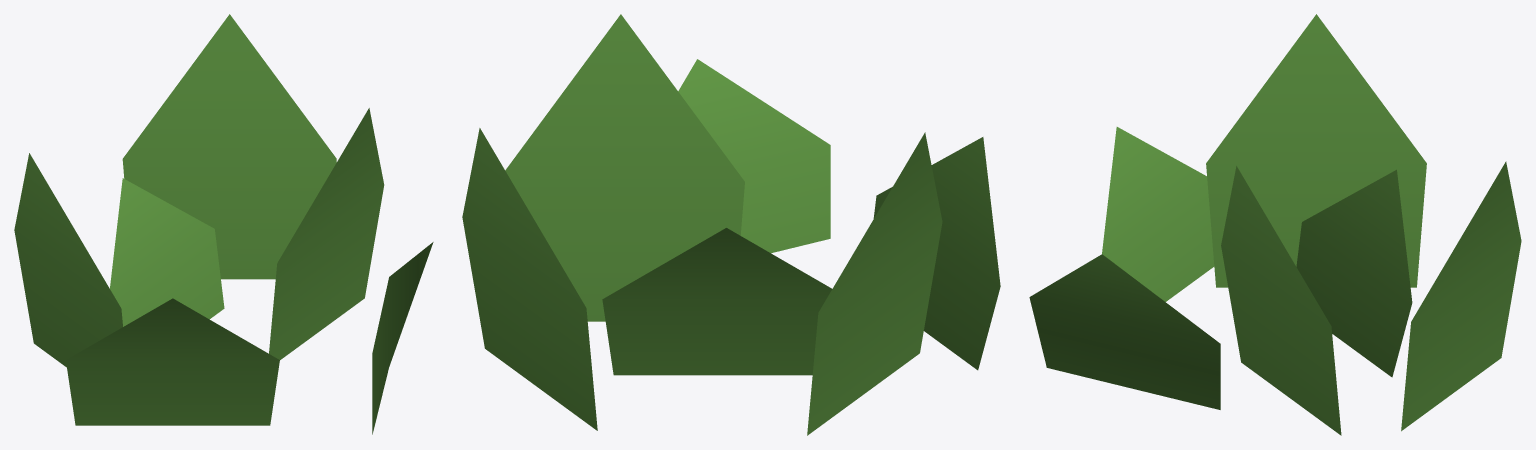
Rendered from grass-3.glb.
3 renders of one model, left to right at view 1: azimuth 30°, elevation 25°; view 2: azimuth 150°, elevation 25°; view 3: azimuth 270°, elevation 25°, orthographic. The views are drawn at different scales.
Parts seen in each view (by area): view 1: grass_leafs; view 2: grass_leafs; view 3: grass_leafs.
Part boxes in pixels (left/top/right/bottom): grass_leafs: left=14, top=14, right=433, bottom=434; grass_leafs: left=462, top=14, right=1000, bottom=435; grass_leafs: left=1029, top=14, right=1521, bottom=435.
Bounding box in the file's own units: 0.4114 × 0.25 × 0.4514.
